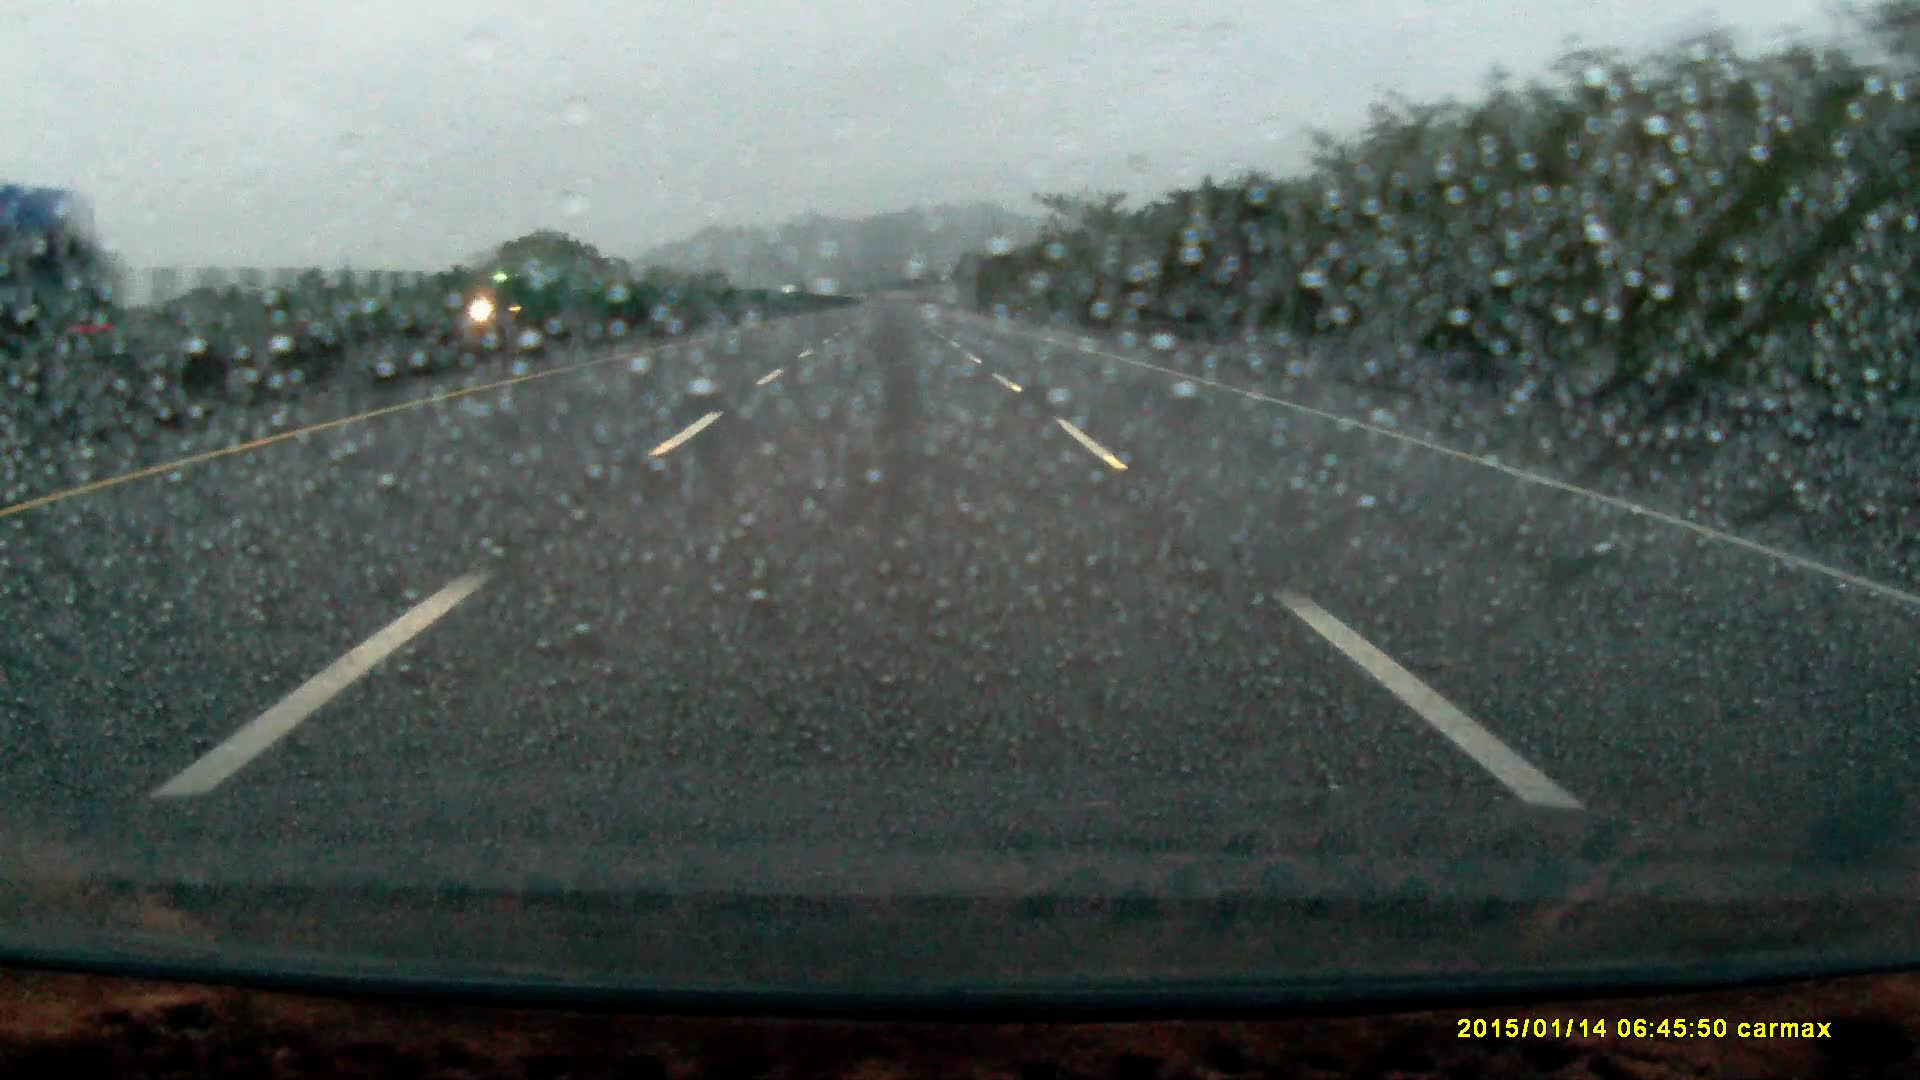vehicle: (471, 261, 585, 334)
